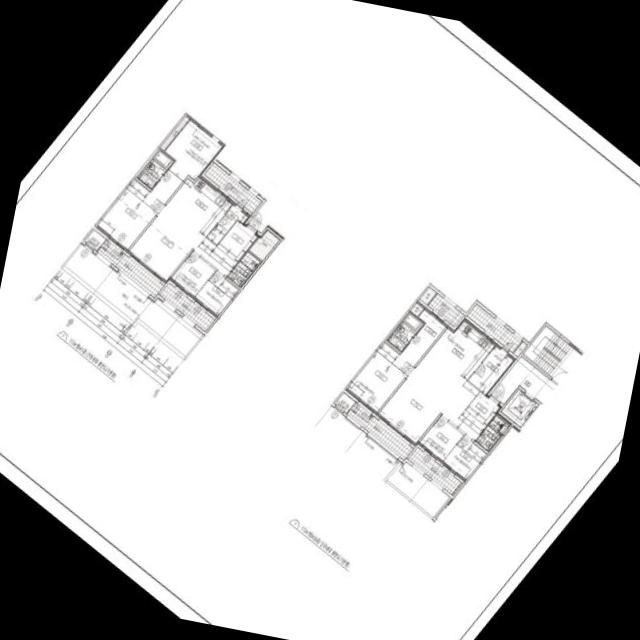background: (0, 0, 640, 640)
space_balconi: (346, 402, 413, 460), (97, 240, 163, 298), (204, 163, 261, 213), (466, 304, 521, 352), (159, 283, 214, 331), (407, 447, 460, 494), (427, 294, 463, 327)
space_bedroom: (95, 163, 187, 251), (345, 342, 413, 414), (417, 416, 462, 463), (441, 436, 486, 482), (193, 271, 238, 317), (169, 252, 214, 298)
space_dressroom: (164, 118, 224, 180), (399, 308, 447, 366)
space_elevator: (500, 389, 538, 427)
space_elevator_hall: (490, 356, 556, 404)
space_front: (216, 220, 258, 262), (465, 392, 500, 425)
space_kitchen: (415, 317, 496, 398), (166, 176, 233, 237)
space_living_room: (127, 205, 237, 284), (377, 368, 485, 445)
space_multipurpose_space: (468, 344, 516, 395), (206, 203, 250, 244)
space_other: (160, 115, 190, 150), (248, 230, 279, 261), (419, 287, 436, 304), (409, 301, 424, 316), (513, 342, 526, 357), (498, 423, 509, 435)
space_outdoor_room: (333, 392, 355, 413), (84, 230, 105, 250)
space_staircase: (522, 326, 581, 384)
space_toilet: (137, 150, 173, 189), (227, 251, 261, 287), (475, 416, 504, 452)
